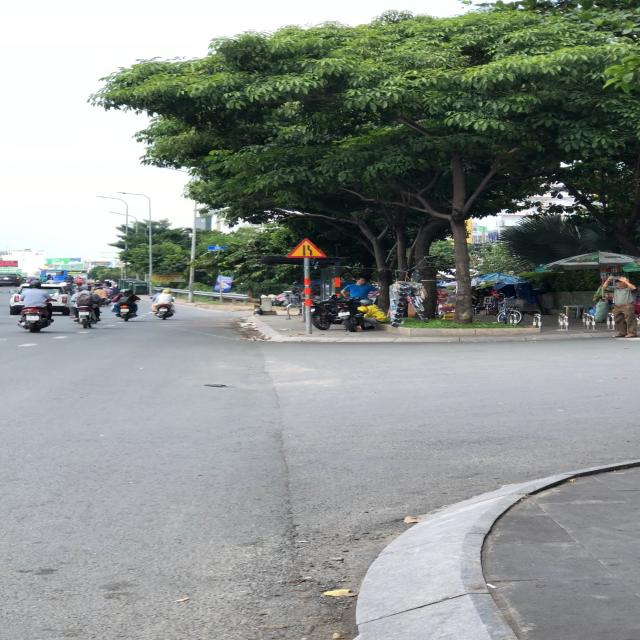Bien bao duong bi thu hep: (285, 237, 328, 259)
